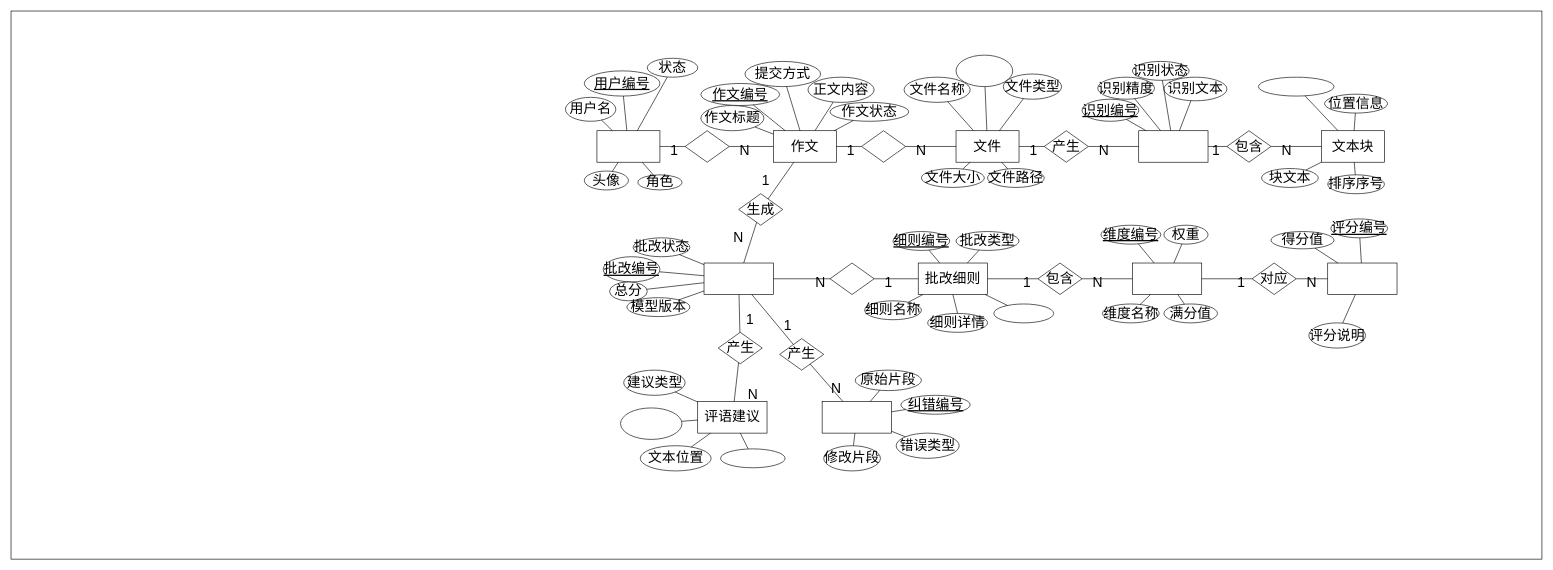
Image size: 1553x570. Some labels were removed from this diagram. Each missing label, with the centre of its shape:
"上传" belongs at point 883,146.
"建议内容" belongs at point 752,458.
"建议编号" belongs at point 651,423.
"批改记录" belongs at point 738,278.
"拥有" belongs at point 706,146.
"文件编号" belongs at point 984,70.
"文本块编号" belongs at point 1296,86.
"文本纠错" belongs at point 856,417.
"用户" belongs at point 628,146.
"维度评分" belongs at point 1362,278.
"评分维度" belongs at point 1167,278.
"识别记录" belongs at point 1173,146.
"适用学段" belongs at point 1023,313.
"采用" belongs at point 851,278.
